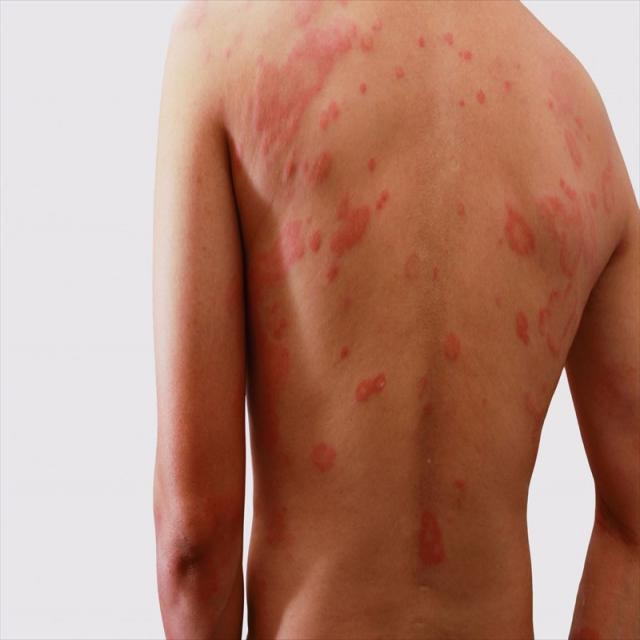hives: (237, 5, 628, 623)
